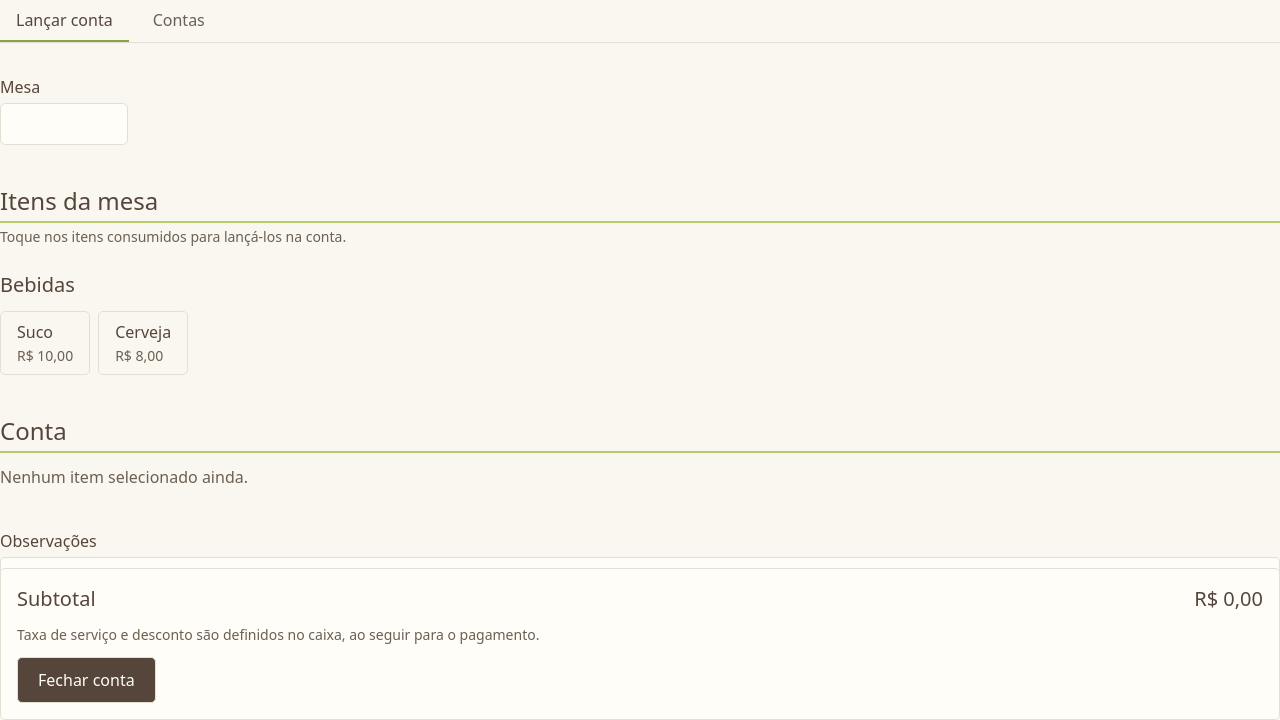
Test: <CaixaForm> — contas fechadas › seguir para pagamento envia serviço/desconto do caixa e abre o rateio
The width and height of the screenshot is (1280, 720).
Click the button "Suco R$ 10,00" at (45, 343), box [0, 311, 90, 375]
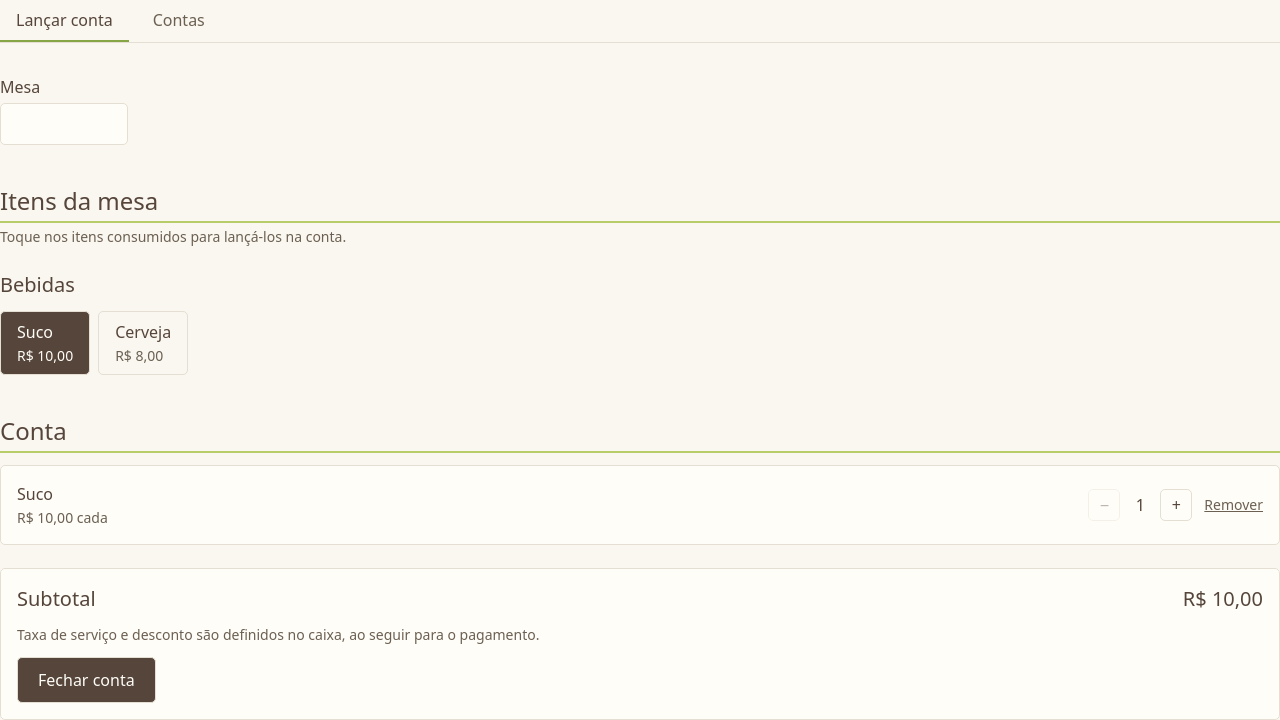
Click the button "Fechar conta" at (86, 680), box [17, 657, 156, 703]
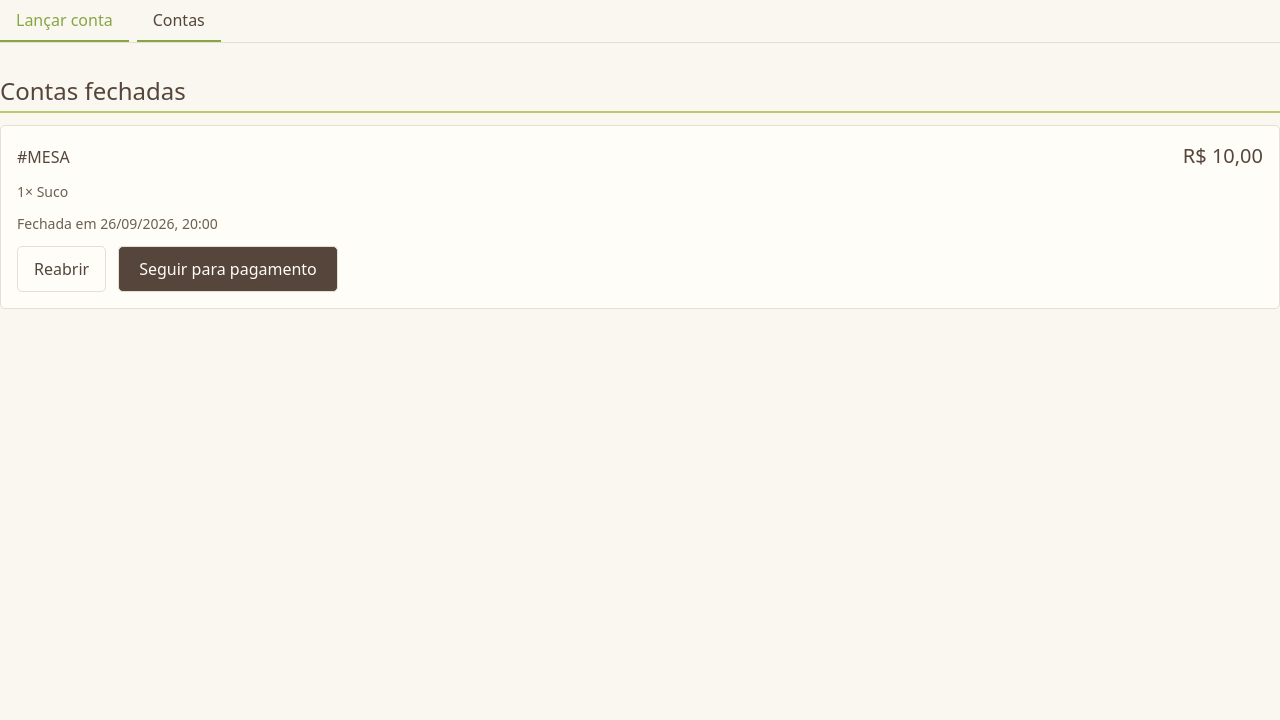
Click the button "Seguir para pagamento" at (228, 269), box [118, 246, 338, 292]
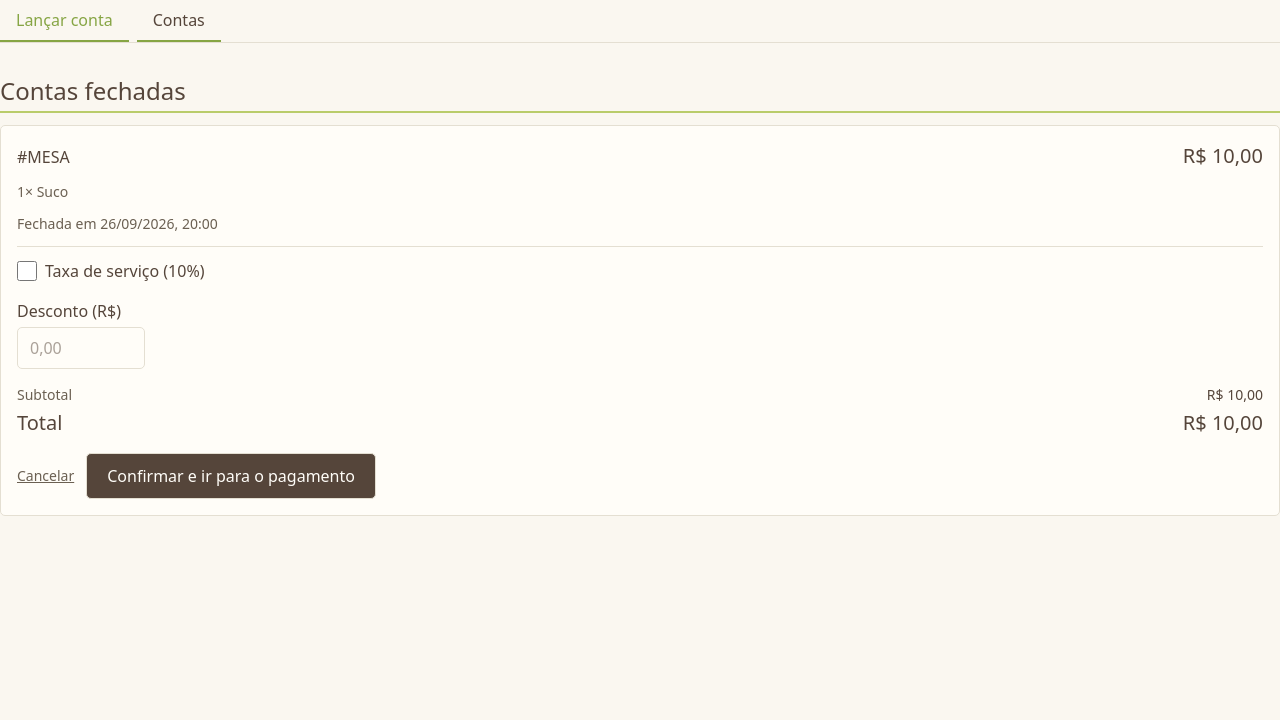
Click the checkbox labelled "Taxa de serviço (10%)" at (27, 271), box [17, 261, 37, 281]
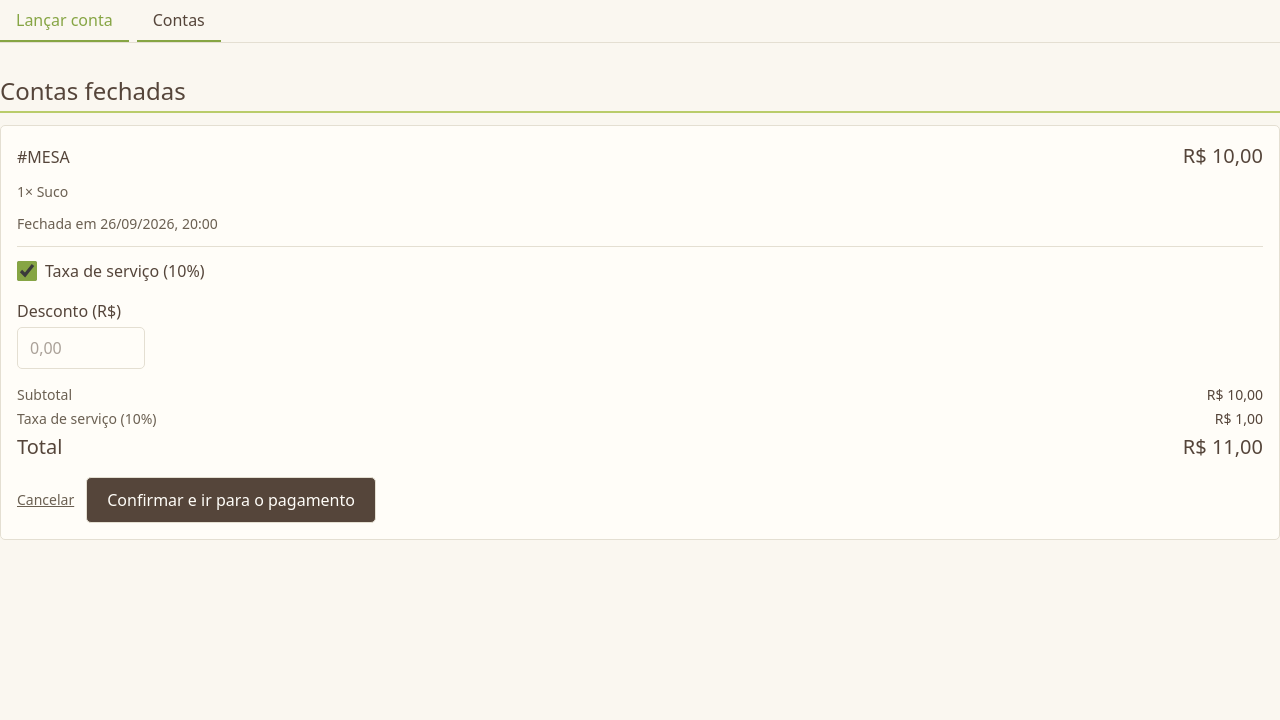
expect the text "R$ 11,00" is shown: met, box [1183, 433, 1263, 461]
Click the button "Confirmar e ir para o pagamento" at (231, 500), box [86, 477, 376, 523]
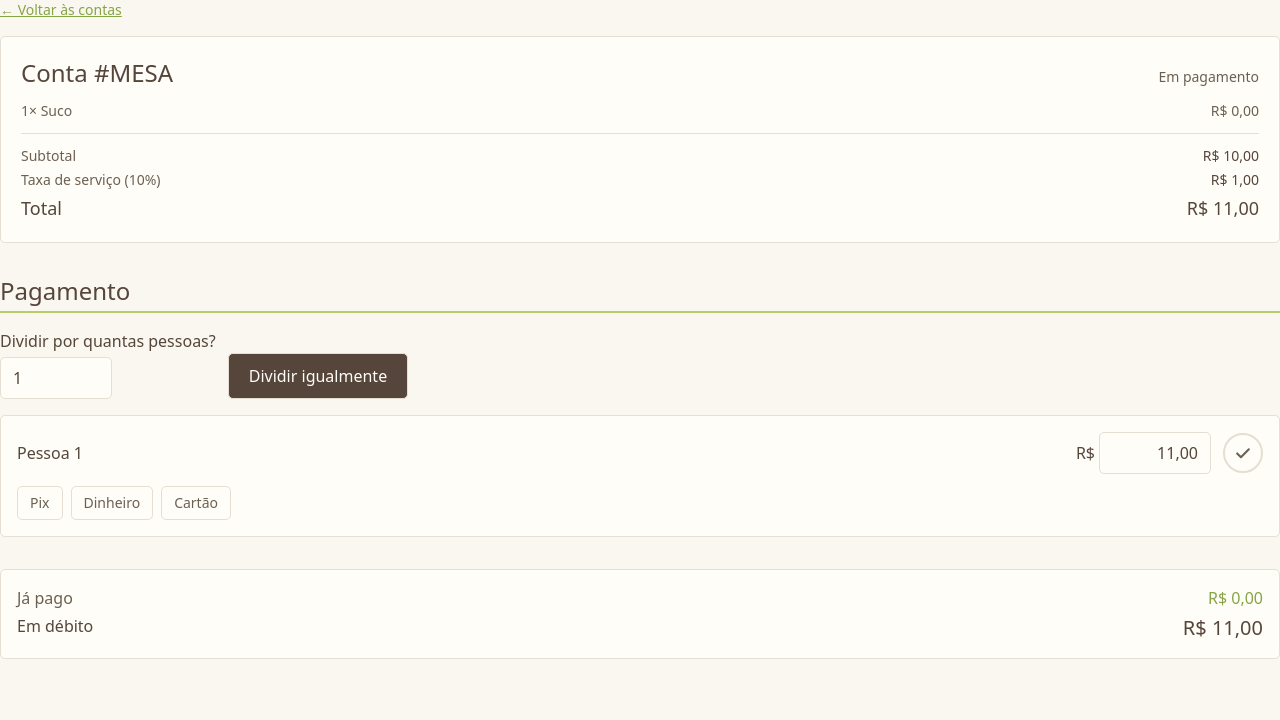
expect the text "Em pagamento" is shown: met, box [1158, 67, 1259, 87]
expect the heading "Conta #MESA" is shown: met, box [21, 57, 173, 89]
